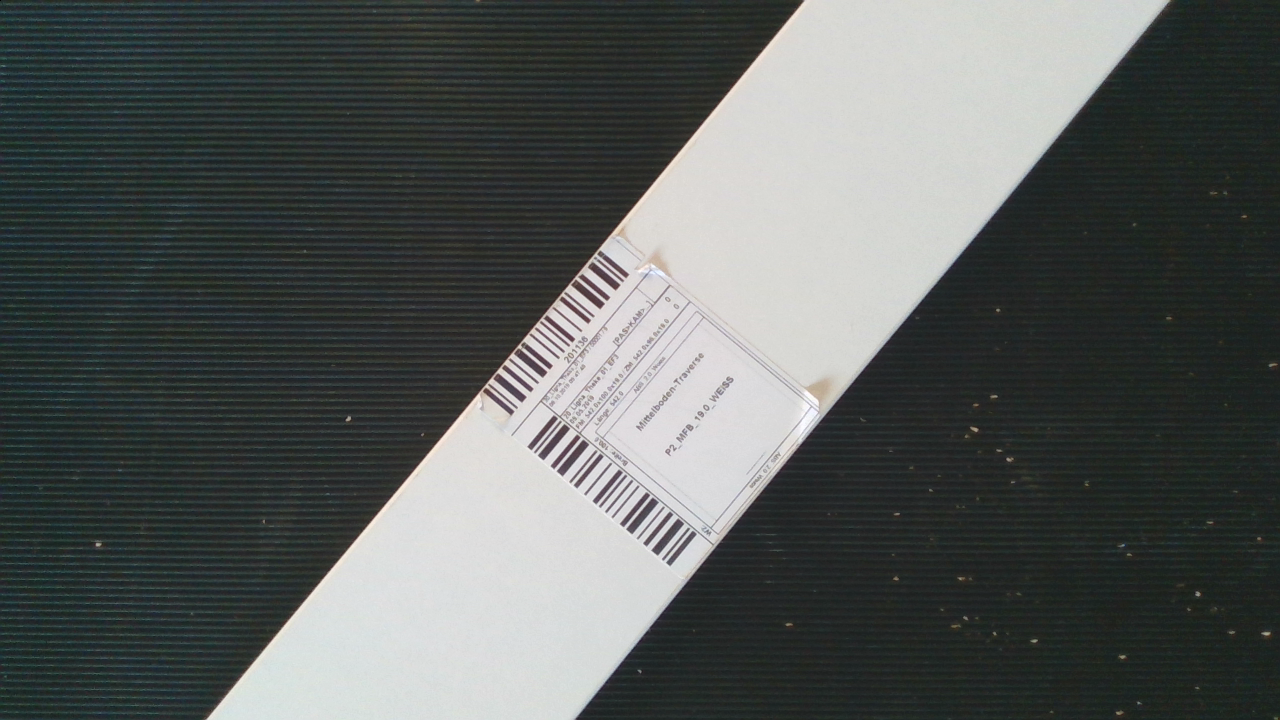barcode: (470, 222, 835, 593)
